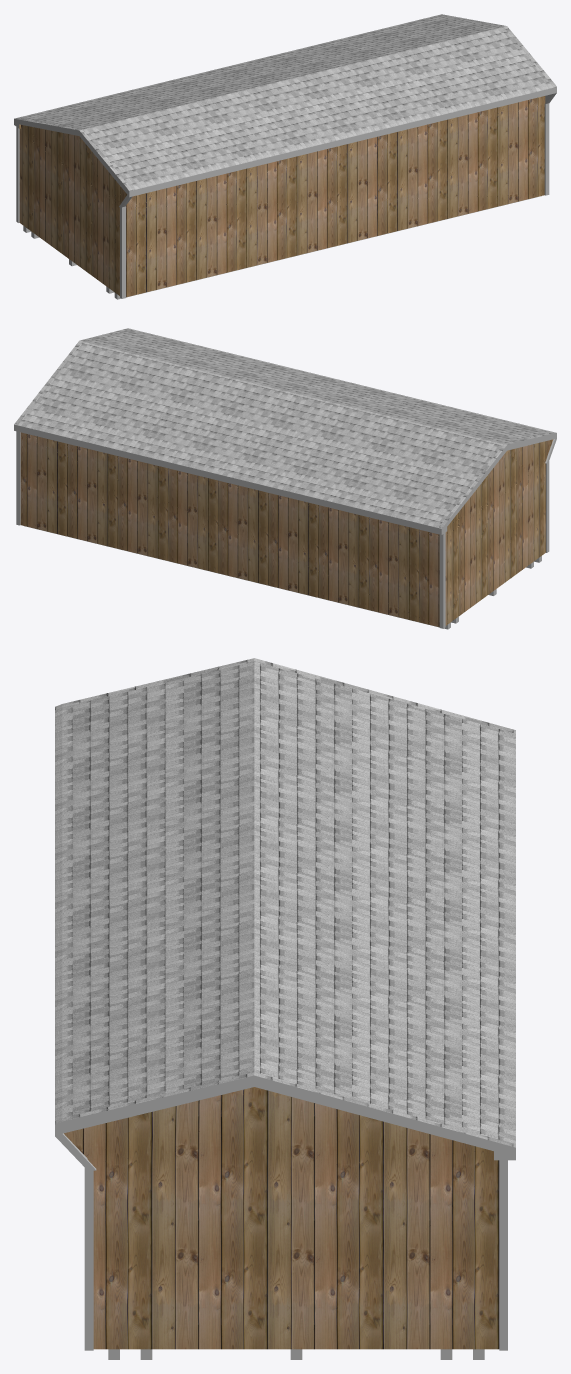
File: Quaker Sheds_12x28.obj
The picture shows the model from 3 angles, top to bottom: view 1: azimuth 30°, elevation 25°; view 2: azimuth 150°, elevation 25°; view 3: azimuth 270°, elevation 25°; orthographic projection. The views are drawn at different scales.
Visible parts, largest first — view 1: Shed, Roof, Sides, Trim, Floor; view 2: Roof, Shed, Sides, Trim, Floor; view 3: Roof, Shed, Sides, Trim.
Boxes of the visible parts, bbox=[...] form: Shed: bbox=[19, 96, 545, 297]; Roof: bbox=[15, 14, 556, 191]; Sides: bbox=[14, 87, 556, 208]; Trim: bbox=[16, 103, 549, 298]; Floor: bbox=[23, 196, 541, 299]; Roof: bbox=[14, 328, 554, 528]; Shed: bbox=[20, 432, 553, 627]; Sides: bbox=[14, 424, 556, 534]; Trim: bbox=[16, 431, 549, 628]; Floor: bbox=[24, 526, 541, 629]; Roof: bbox=[55, 658, 515, 1147]; Shed: bbox=[64, 1087, 499, 1349]; Sides: bbox=[55, 1075, 515, 1170]; Trim: bbox=[84, 1160, 507, 1350].
Size of the model in its own units: 8.6 by 2.74 by 4.01.
